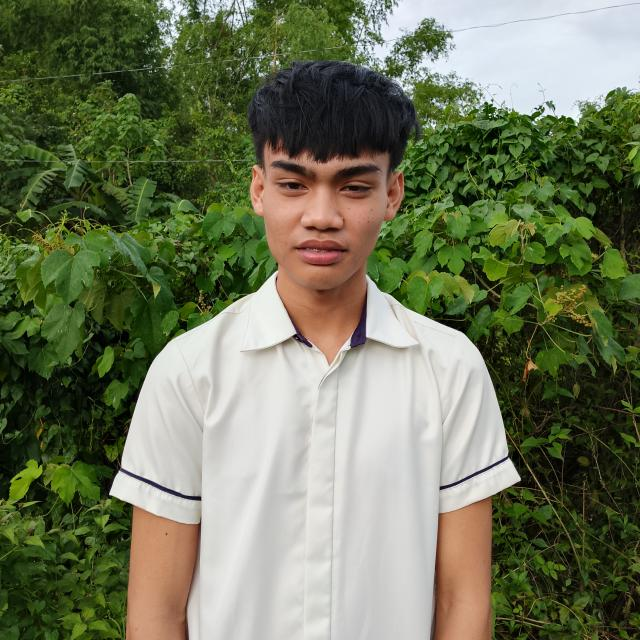education_male_uniform: (78, 230, 555, 640)
